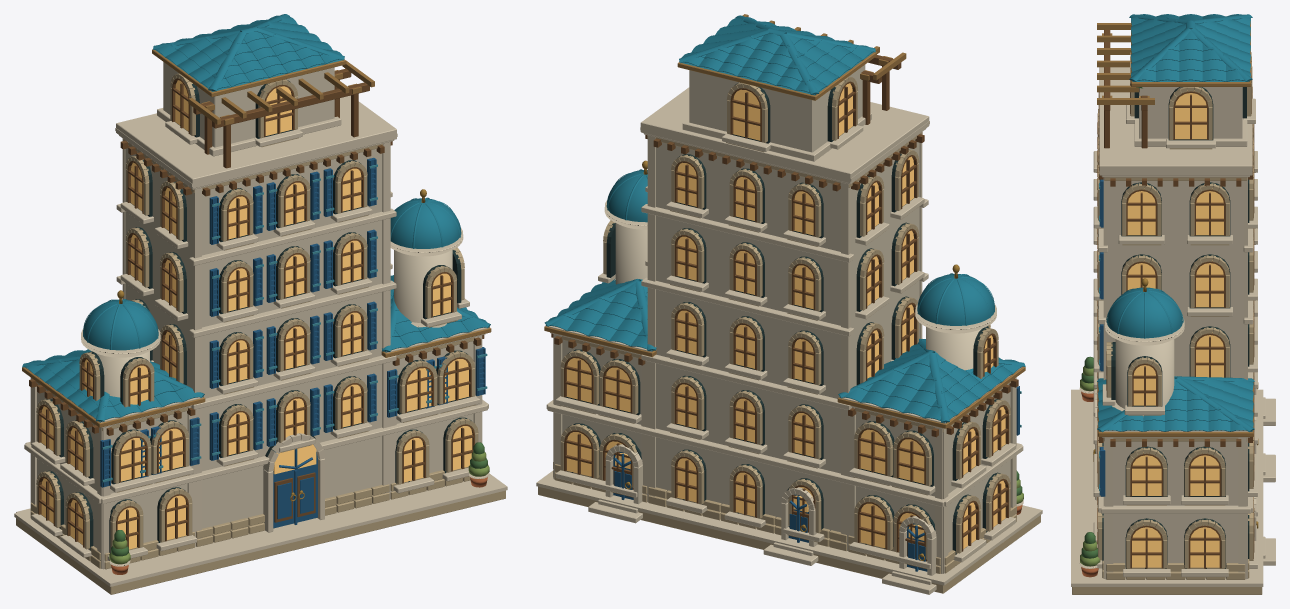
The picture shows the model from 3 angles, left to right: view 1: azimuth 30°, elevation 25°; view 2: azimuth 150°, elevation 25°; view 3: azimuth 270°, elevation 25°; orthographic projection. The views are drawn at different scales.
Parts seen in each view (by area): view 1: harbor_skyscraper_3_geometry, harbor_skyscraper_3_geometry ceramic; view 2: harbor_skyscraper_3_geometry, harbor_skyscraper_3_geometry ceramic; view 3: harbor_skyscraper_3_geometry, harbor_skyscraper_3_geometry ceramic.
Boxes of the visible parts, x1,y1,x2,y2 form: harbor_skyscraper_3_geometry: [14, 49, 507, 594]; harbor_skyscraper_3_geometry ceramic: [22, 14, 490, 482]; harbor_skyscraper_3_geometry: [536, 14, 1042, 594]; harbor_skyscraper_3_geometry ceramic: [544, 15, 1025, 427]; harbor_skyscraper_3_geometry: [1071, 21, 1275, 594]; harbor_skyscraper_3_geometry ceramic: [1097, 14, 1254, 490].
Bounding box in the file's own units: 2.28 × 2.6 × 1.02.
